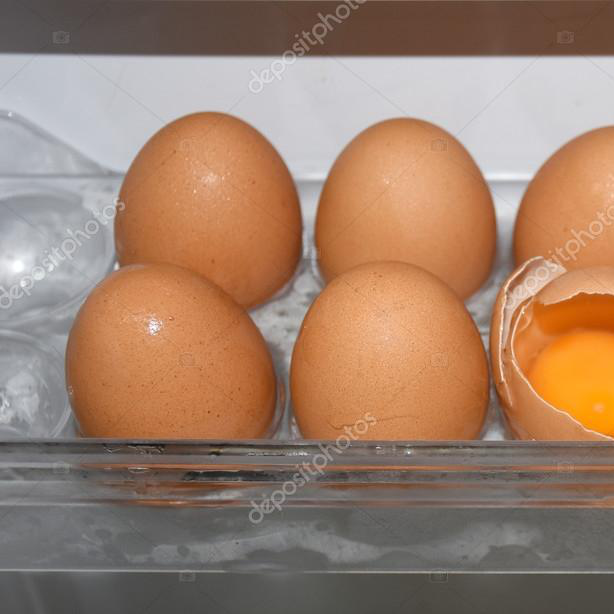egg: (65, 111, 614, 454)
